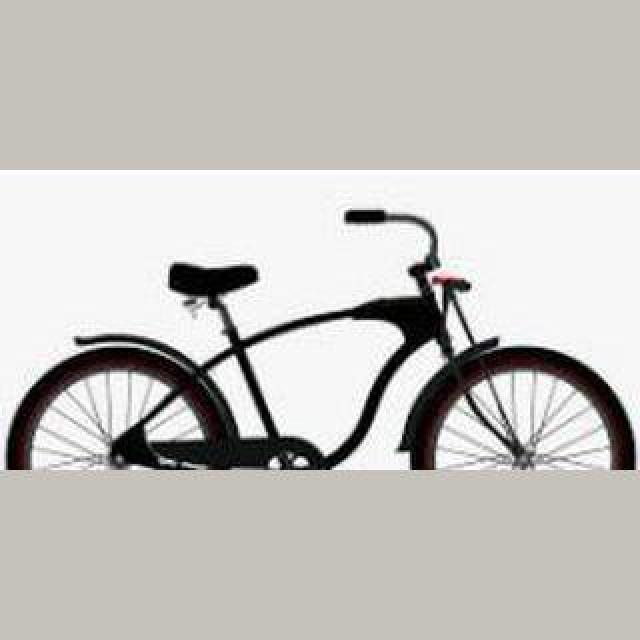Person: (6, 205, 638, 469)
